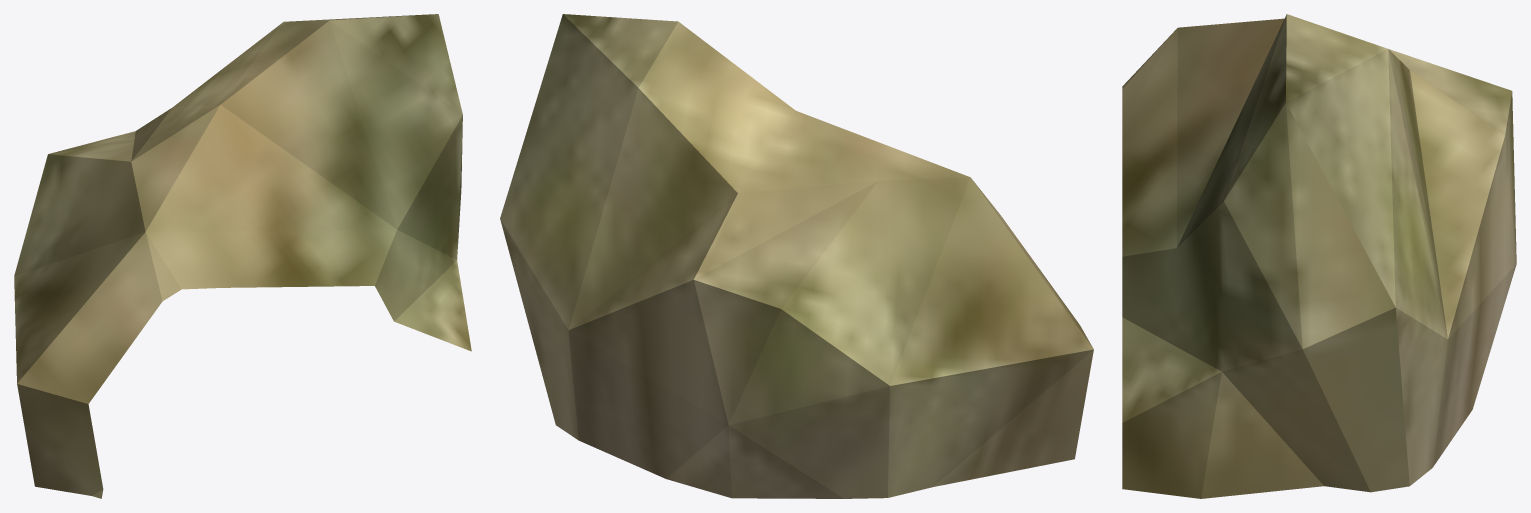
3 renders of one model, left to right at view 1: azimuth 30°, elevation 25°; view 2: azimuth 150°, elevation 25°; view 3: azimuth 270°, elevation 25°, orthographic. The views are drawn at different scales.
Size of the model in its own units: 0.5347 by 0.3727 by 0.3069.
1 material, 1 textured.
